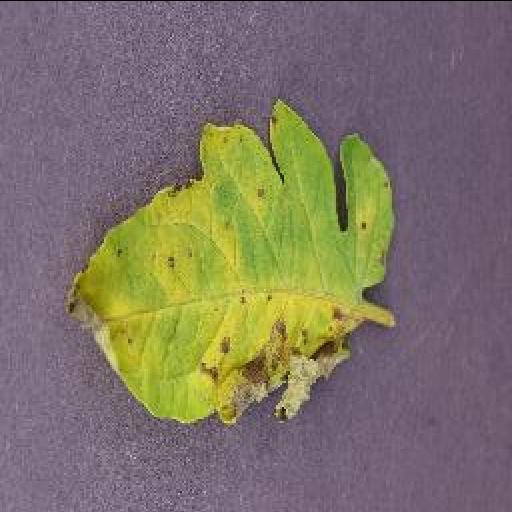disease_tomato: (67, 96, 397, 421)
